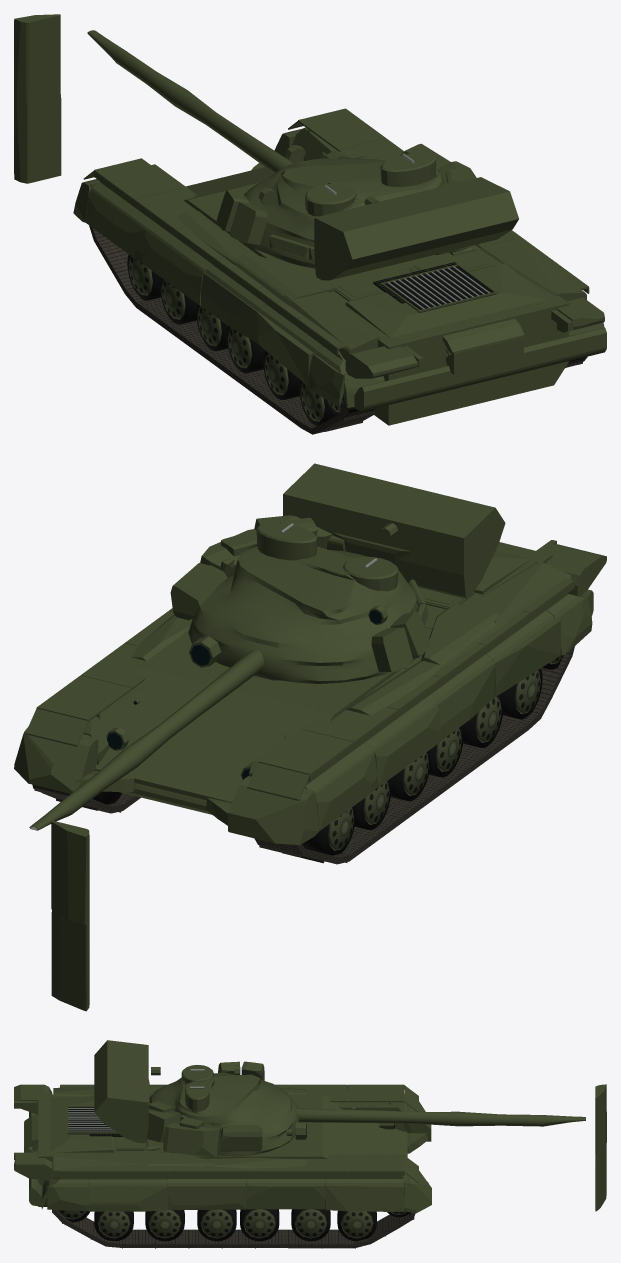
File: vehicle_adapter.glb
3 views of the same model, one above another, from view 1: azimuth 30°, elevation 25°; view 2: azimuth 150°, elevation 25°; view 3: azimuth 270°, elevation 25° (orthographic). The views are drawn at different scales.
Parts seen in each view (by area): view 1: Body, Turret, Gun, Wheel_l_04, Wheel_l_05, Wheel_l_02, Wheel_l_01, Wheel_l_03, Wheel_l_06; view 2: Body, Turret, Gun, Wheel_l_01, Wheel_l_05, Wheel_l_06, Wheel_l_03, Wheel_l_02, Wheel_l_04; view 3: Body, Turret, Gun, Wheel_r_02, Wheel_r_03, Wheel_r_04, Wheel_r_05, Wheel_r_01, Wheel_r_06.
Boxes of the visible parts, x1,y1,x2,y2 form: Body: (14,14,606,434); Turret: (216,143,518,280); Gun: (87,30,293,173); Wheel_l_04: (226,326,265,373); Wheel_l_05: (263,350,300,399); Wheel_l_02: (160,278,197,324); Wheel_l_01: (127,254,161,300); Wheel_l_03: (196,304,227,350); Wheel_l_06: (299,380,335,425); Body: (14,540,606,1011); Turret: (170,463,505,683); Gun: (29,649,263,830); Wheel_l_01: (302,805,355,855); Wheel_l_05: (462,694,503,747); Wheel_l_06: (501,668,542,719); Wheel_l_03: (390,750,430,801); Wheel_l_02: (354,779,391,829); Wheel_l_04: (429,726,463,777); Body: (14,1084,606,1248); Turret: (94,1040,306,1156); Gun: (295,1108,585,1126); Wheel_r_02: (291,1202,330,1241); Wheel_r_03: (240,1209,279,1241); Wheel_r_04: (197,1209,236,1241); Wheel_r_05: (145,1210,184,1241); Wheel_r_01: (337,1210,376,1241); Wheel_r_06: (94,1211,133,1240).
Size of the model in its own units: 3.78 by 2.78 by 10.01.
7 materials, 6 textured.
